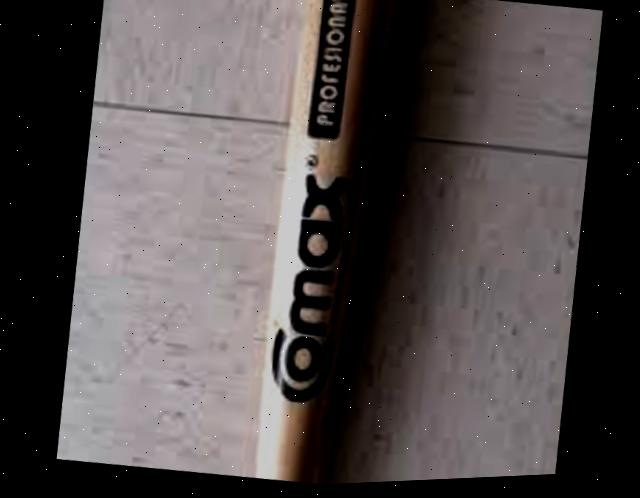baseball bat: (232, 0, 411, 490)
